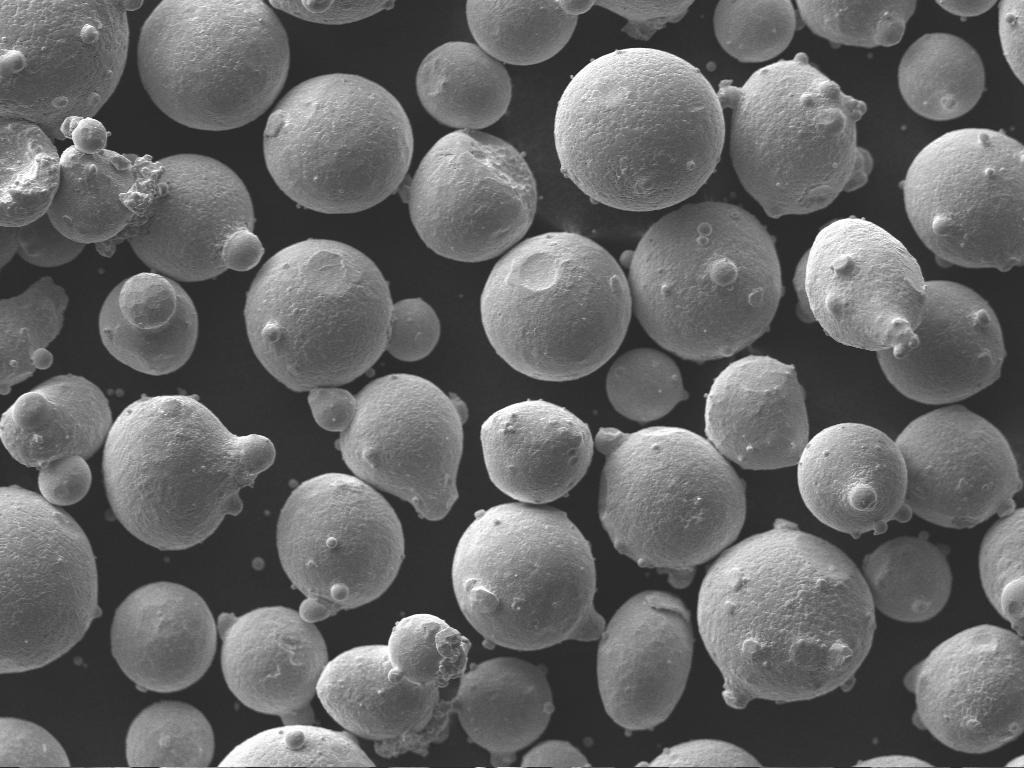Powder: (698, 518, 876, 708), (244, 238, 440, 391), (554, 48, 724, 211), (102, 398, 274, 550), (718, 52, 872, 218), (622, 202, 782, 361), (594, 426, 746, 587), (308, 374, 468, 519), (452, 502, 606, 650), (480, 232, 632, 381), (316, 614, 470, 757), (264, 74, 414, 214), (138, 0, 290, 130), (0, 0, 141, 138), (0, 486, 102, 673), (276, 474, 404, 622), (794, 218, 926, 358), (398, 130, 536, 262), (902, 128, 1024, 271), (130, 154, 264, 282), (48, 118, 168, 257), (878, 280, 1006, 404), (896, 404, 1022, 529), (904, 624, 1024, 754), (0, 374, 112, 506), (596, 590, 694, 730), (216, 606, 328, 726), (798, 422, 912, 538), (110, 582, 218, 692), (482, 400, 594, 503), (706, 356, 808, 469), (452, 656, 554, 765), (98, 274, 198, 375), (416, 42, 512, 129), (862, 530, 952, 622), (466, 0, 593, 65), (0, 276, 68, 393), (900, 34, 986, 120), (0, 120, 60, 227), (220, 726, 374, 766), (606, 348, 688, 422), (978, 508, 1024, 635), (126, 700, 214, 766), (796, 0, 915, 47), (714, 0, 796, 62), (596, 1, 694, 39), (18, 214, 84, 267), (0, 718, 70, 766), (648, 738, 762, 765), (270, 1, 394, 23), (998, 0, 1024, 83), (522, 740, 590, 767), (936, 1, 998, 19), (856, 754, 932, 768), (0, 227, 18, 269)
